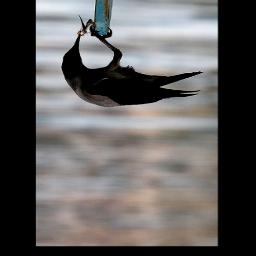Crow: (61, 26, 203, 109)
